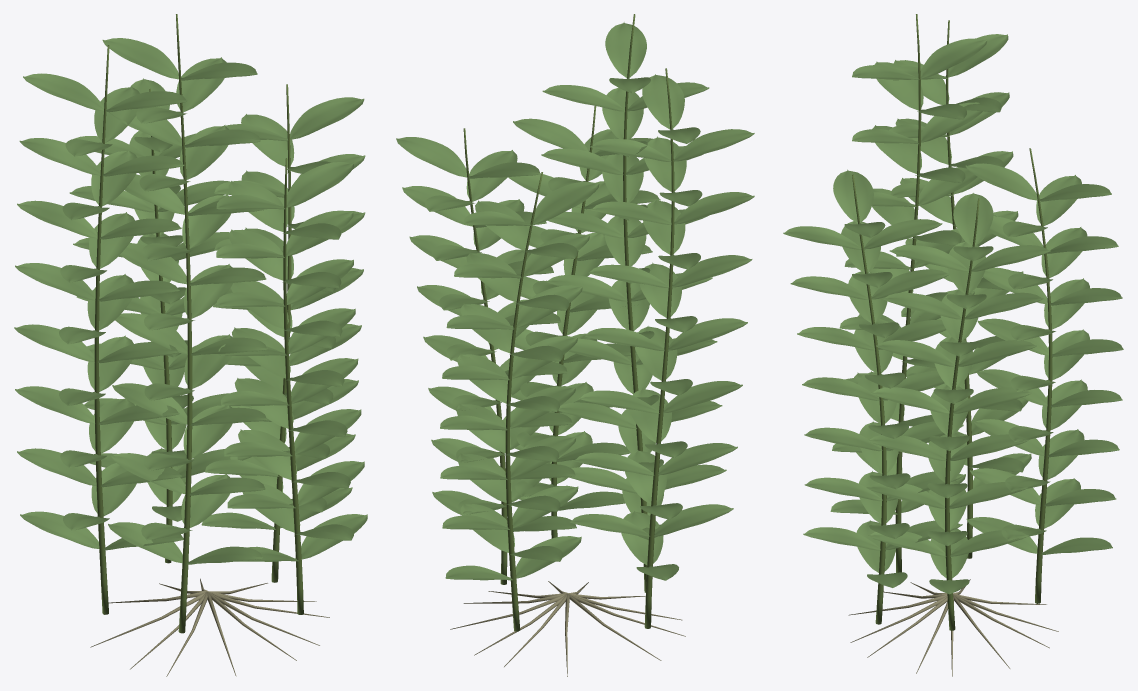
File: bacopa-desktop.glb
3 renders of one model, left to right at view 1: azimuth 30°, elevation 25°; view 2: azimuth 150°, elevation 25°; view 3: azimuth 270°, elevation 25°, orthographic. The views are drawn at different scales.
Visible parts, largest first — view 1: opposite-leaf, branching-stem, anchoring-root; view 2: opposite-leaf, branching-stem, anchoring-root; view 3: opposite-leaf, branching-stem, anchoring-root.
Boxes of the visible parts, x1=… form: opposite-leaf: x1=14, y1=38, x2=367, y2=564; branching-stem: x1=94, y1=14, x2=303, y2=633; anchoring-root: x1=90, y1=578, x2=329, y2=676; opposite-leaf: x1=396, y1=22, x2=754, y2=580; branching-stem: x1=463, y1=14, x2=674, y2=631; anchoring-root: x1=450, y1=581, x2=685, y2=676; opposite-leaf: x1=783, y1=34, x2=1123, y2=594; branching-stem: x1=852, y1=14, x2=1052, y2=630; anchoring-root: x1=848, y1=579, x2=1058, y2=676.
Bounding box in the file's own units: 0.3981 × 0.7297 × 0.3811.
